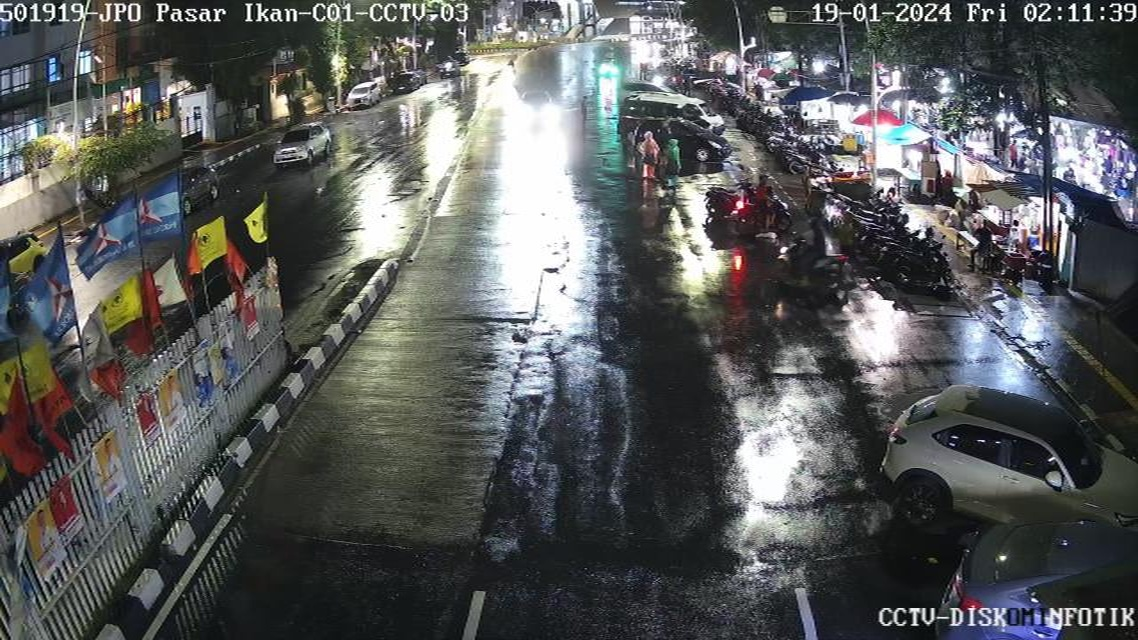Gerobak: (1036, 99, 1138, 224), (898, 146, 942, 198)
